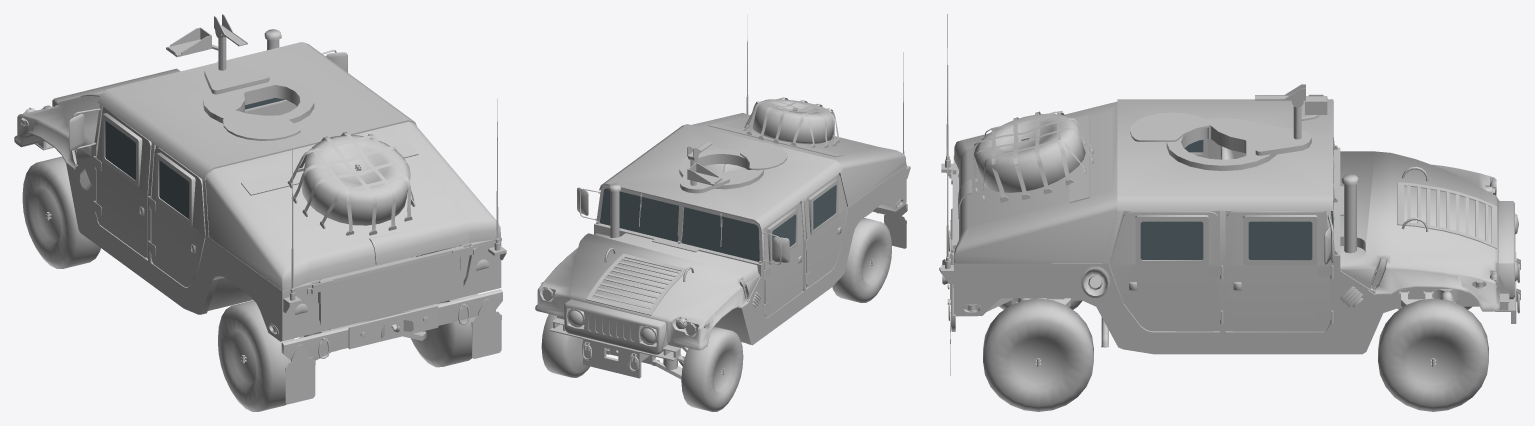
3 views of the same model, side by side, from view 1: azimuth 30°, elevation 25°; view 2: azimuth 150°, elevation 25°; view 3: azimuth 270°, elevation 25° (orthographic). The views are drawn at different scales.
Visible parts, largest first — view 1: outs, back, wheel, wheel_LB, wheel_LF, door_left_1, door_left_2, wheel_RB, glass_LF, glass_LB, inside, under; view 2: outs, glass_front, wheel_LF, wheel_LB, back, door_left_2, door_left_1, wheel, wheel_RF, glass_LB, under, glass_LF; view 3: outs, wheel_RF, wheel_RB, door_right_1, door_right_2, back, wheel, glass_RF, glass_RB, under.
Boxes of the visible parts, bbox=[...] form: outs: bbox=[14, 14, 506, 404]; back: bbox=[234, 130, 469, 281]; wheel: bbox=[301, 135, 410, 225]; wheel_LB: bbox=[218, 300, 293, 411]; wheel_LF: bbox=[22, 156, 100, 268]; door_left_1: bbox=[93, 107, 151, 257]; door_left_2: bbox=[148, 147, 205, 286]; wheel_RB: bbox=[411, 294, 477, 367]; glass_LF: bbox=[105, 120, 135, 180]; glass_LB: bbox=[159, 160, 189, 218]; inside: bbox=[245, 102, 459, 318]; under: bbox=[299, 298, 457, 360]; outs: bbox=[535, 14, 910, 378]; glass_front: bbox=[599, 188, 759, 261]; wheel_LF: bbox=[681, 326, 743, 411]; wheel_LB: bbox=[832, 217, 891, 302]; back: bbox=[705, 97, 878, 157]; door_left_2: bbox=[803, 174, 847, 287]; door_left_1: bbox=[763, 203, 803, 317]; wheel: bbox=[752, 99, 835, 144]; wheel_RF: bbox=[541, 314, 589, 377]; glass_LB: bbox=[813, 185, 835, 229]; under: bbox=[582, 210, 873, 379]; glass_LF: bbox=[772, 214, 795, 259]; outs: bbox=[939, 14, 1520, 375]; wheel_RF: bbox=[1378, 298, 1488, 411]; wheel_RB: bbox=[983, 298, 1093, 411]; door_right_1: bbox=[1226, 211, 1333, 331]; door_right_2: bbox=[1110, 211, 1223, 331]; back: bbox=[958, 111, 1111, 239]; wheel: bbox=[974, 113, 1085, 192]; glass_RF: bbox=[1248, 221, 1312, 260]; glass_RB: bbox=[1140, 221, 1203, 259]; under: bbox=[955, 287, 1479, 347].
Size of the model in its own units: 333 by 334 by 595.
